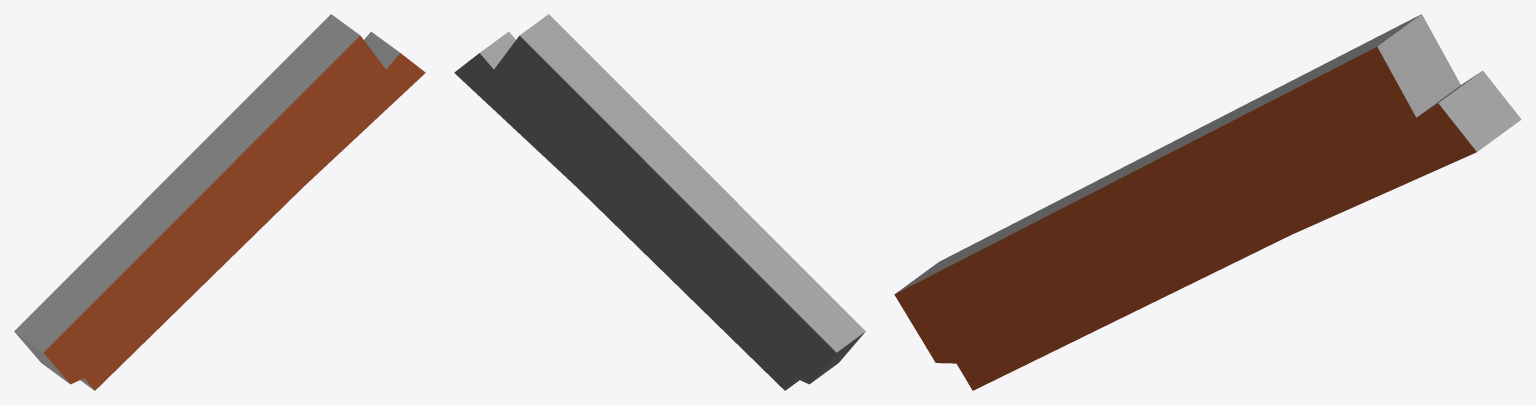
Rendered from construction_1228_assumed_A_Casa_h6m.obj.
3 renders of one model, left to right at view 1: azimuth 30°, elevation 25°; view 2: azimuth 150°, elevation 25°; view 3: azimuth 330°, elevation 25°, orthographic. The views are drawn at different scales.
Visible parts, largest first — view 1: construction_1228_assumed_A_Casa; view 2: construction_1228_assumed_A_Casa; view 3: construction_1228_assumed_A_Casa.
Boxes of the visible parts, left/top/right/bottom form: construction_1228_assumed_A_Casa: left=14, top=14, right=425, bottom=390; construction_1228_assumed_A_Casa: left=454, top=14, right=865, bottom=390; construction_1228_assumed_A_Casa: left=894, top=14, right=1521, bottom=390.
Size of the model in its own units: 45.22 by 32.85 by 6.
